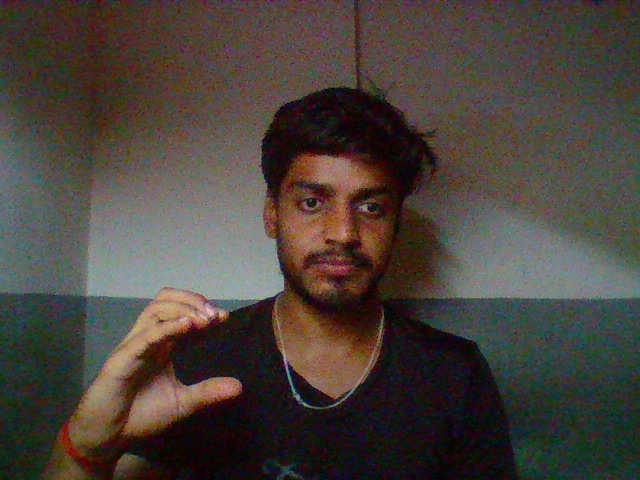C: (74, 269, 264, 458)
